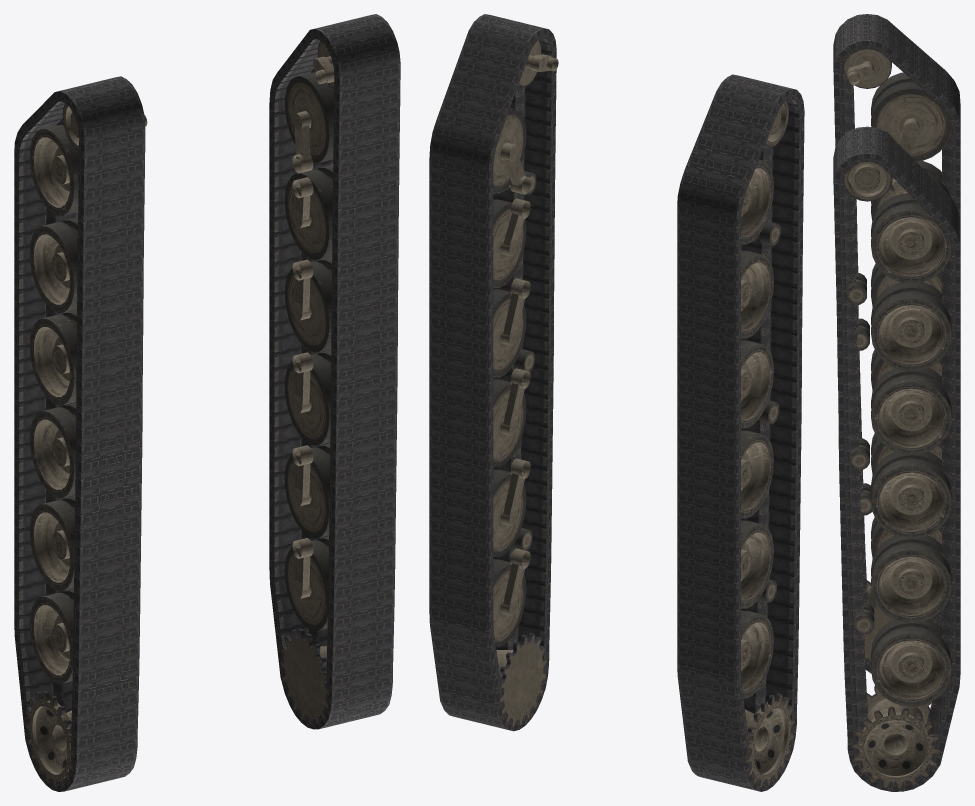
The model's file is Chassis.glb.
The picture shows the model from 3 angles, left to right: view 1: azimuth 30°, elevation 25°; view 2: azimuth 150°, elevation 25°; view 3: azimuth 270°, elevation 25°; orthographic projection. The views are drawn at different scales.
Parts seen in each view (by area): view 1: set_2_group_0, set_3_group_0, set_0_group_0, set_1_group_0; view 2: set_2_group_0, set_3_group_0, set_0_group_0, set_1_group_0; view 3: set_0_group_0, set_3_group_0, set_1_group_0, set_2_group_0.
Boxes of the visible parts, bbox=[...] form: set_2_group_0: bbox=[14, 76, 145, 791]; set_3_group_0: bbox=[269, 14, 400, 729]; set_0_group_0: bbox=[280, 41, 334, 726]; set_1_group_0: bbox=[25, 103, 147, 788]; set_2_group_0: bbox=[677, 74, 804, 791]; set_3_group_0: bbox=[429, 14, 556, 731]; set_0_group_0: bbox=[493, 40, 558, 728]; set_1_group_0: bbox=[741, 100, 795, 788]; set_0_group_0: bbox=[843, 162, 951, 789]; set_3_group_0: bbox=[833, 126, 960, 791]; set_1_group_0: bbox=[843, 49, 951, 669]; set_2_group_0: bbox=[833, 14, 960, 673].
Bounding box in the file's own units: 3.09 × 6.57 × 1.19.
Materials: 4 (4 with a texture image).
